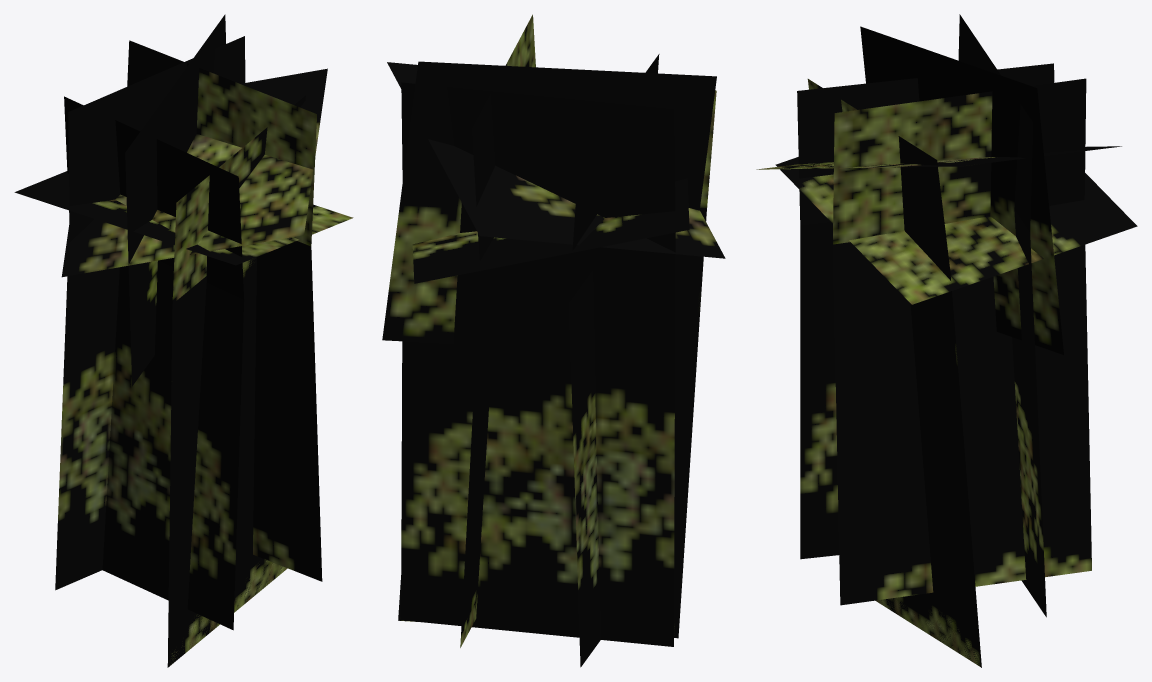
Rendered from birch_leaves_yellowish_slab.obj.
The picture shows the model from 3 angles, left to right: view 1: azimuth 30°, elevation 25°; view 2: azimuth 150°, elevation 25°; view 3: azimuth 270°, elevation 25°; orthographic projection. The views are drawn at different scales.
Parts seen in each view (by area): view 1: south, north, east, west, top, bottom; view 2: east, south, north, top, bottom, west; view 3: south, west, north, bottom, east, top.
Boxes of the visible parts, x1,y1,x2,y2 form: south: [125, 14, 322, 581]; north: [64, 96, 244, 630]; east: [55, 36, 245, 590]; west: [167, 95, 305, 667]; top: [61, 68, 327, 277]; bottom: [14, 171, 353, 265]; east: [401, 82, 675, 646]; south: [382, 14, 716, 647]; north: [569, 54, 659, 667]; top: [387, 62, 725, 258]; bottom: [412, 179, 689, 283]; west: [398, 90, 716, 638]; south: [833, 26, 1091, 605]; west: [807, 79, 981, 667]; north: [797, 63, 1054, 559]; bottom: [775, 157, 1137, 304]; east: [958, 14, 1046, 617]; top: [756, 146, 1121, 169].
Size of the model in its own units: 2.01 by 3.59 by 2.18.
